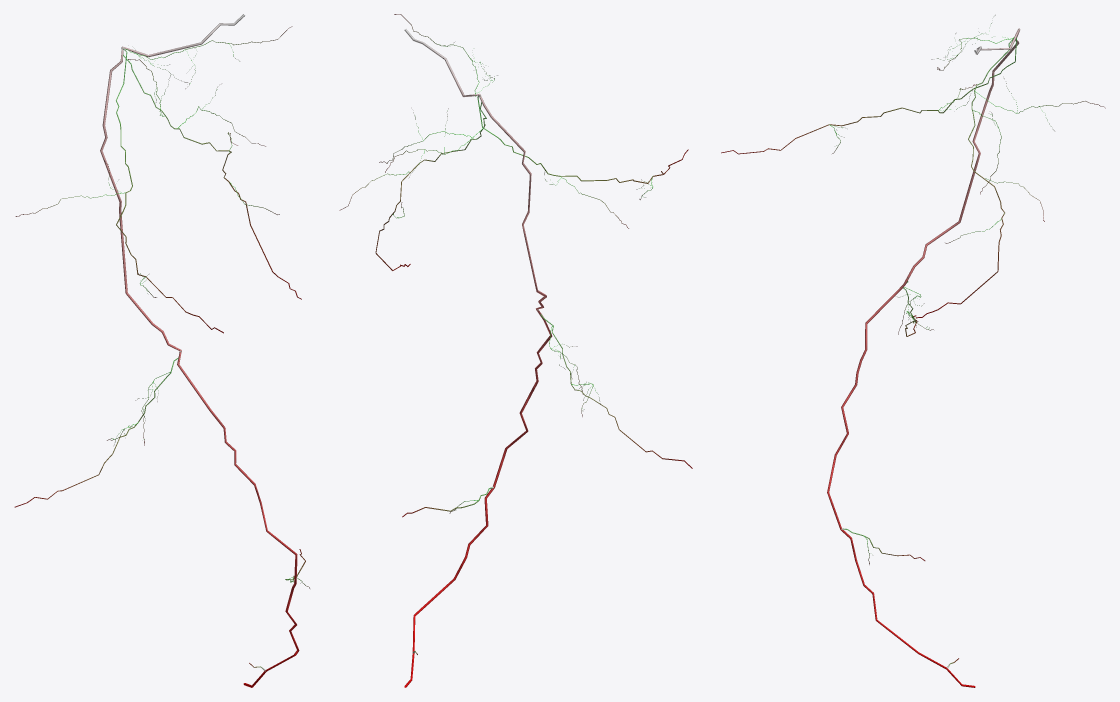
The model's file is SM_Lightning_00.fbx.
The picture shows the model from 3 angles, left to right: view 1: azimuth 30°, elevation 25°; view 2: azimuth 150°, elevation 25°; view 3: azimuth 270°, elevation 25°; orthographic projection. The views are drawn at different scales.
Parts seen in each view (by area): view 1: OUTPUT; view 2: OUTPUT; view 3: OUTPUT.
Part boxes in pixels (bbox=[...]): OUTPUT: bbox=[14, 14, 309, 687]; OUTPUT: bbox=[339, 14, 692, 687]; OUTPUT: bbox=[721, 15, 1105, 687].
Bounding box in the file's own units: 45.53 × 100 × 54.71.
